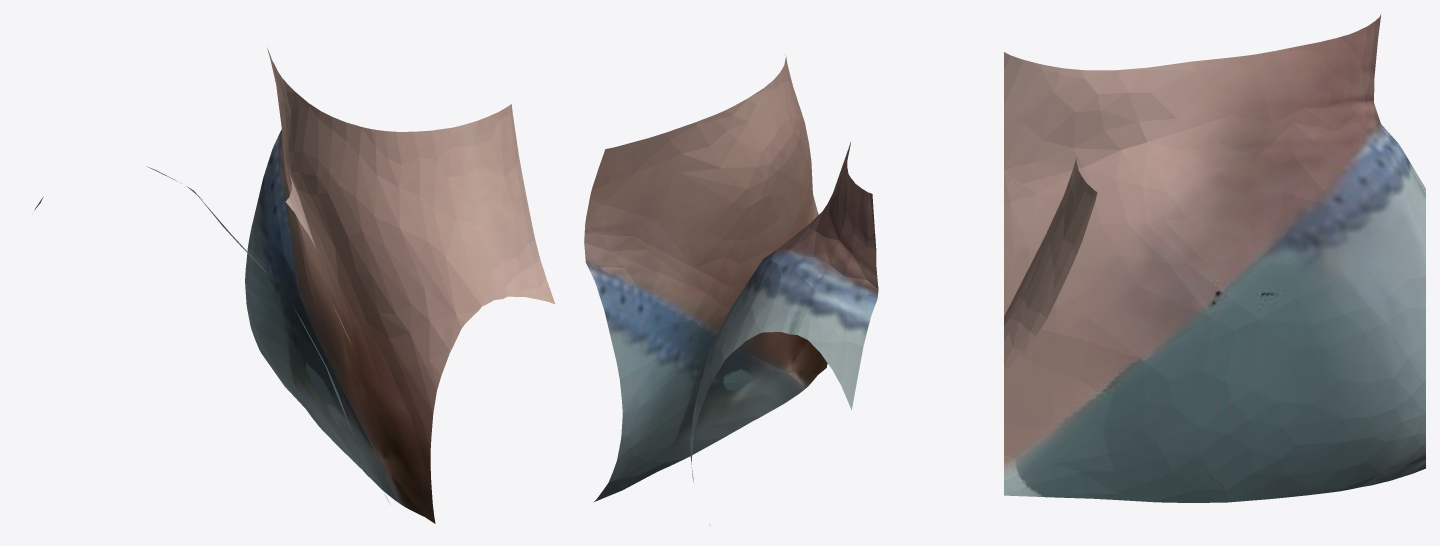
3 views of the same model, side by side, from view 1: azimuth 30°, elevation 25°; view 2: azimuth 150°, elevation 25°; view 3: azimuth 270°, elevation 25° (orthographic). The views are drawn at different scales.
Bounding box in the file's own units: 85.74 × 85.74 × 85.74.
1 material, 1 textured.
